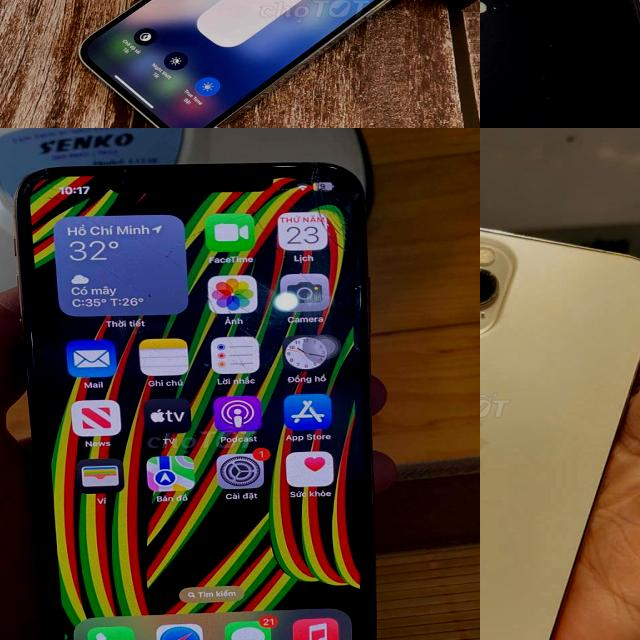gen_12_13: (480, 215, 640, 640), (81, 0, 449, 128)
gen_x_xs: (15, 162, 374, 640)
